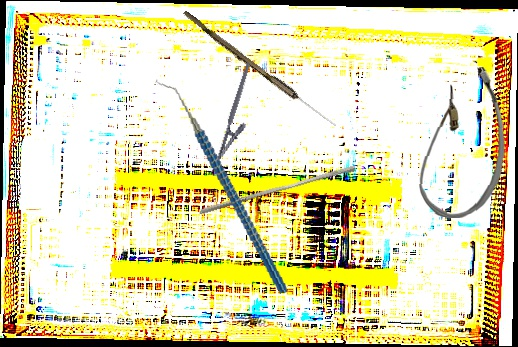Cannula: (417, 64, 508, 220)
Chopper: (155, 64, 288, 308)
Needle Holder: (212, 62, 265, 172)
Pusher: (198, 159, 357, 221)
Surgical Spoon: (180, 10, 339, 129)
